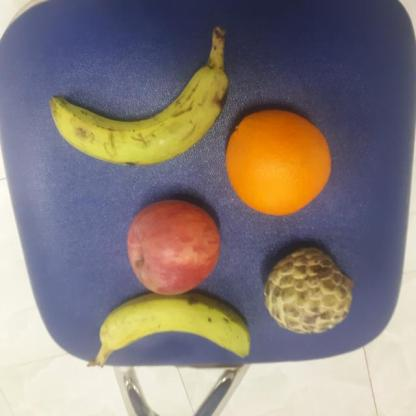annona: (262, 245, 354, 335)
apple: (123, 199, 221, 296)
banana: (49, 62, 231, 169), (95, 294, 255, 364)
orange: (221, 107, 333, 217)
